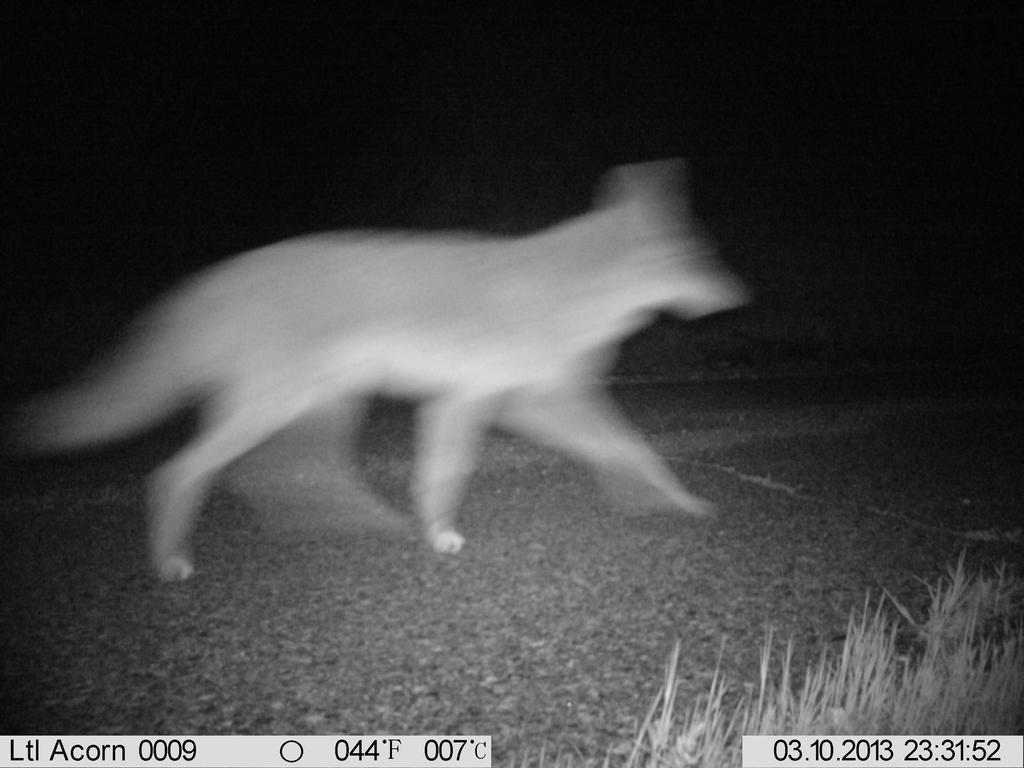coyote: (2, 158, 769, 597)
